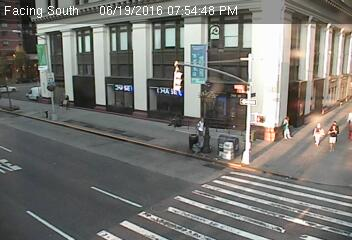neg: (23, 36, 38, 56), (14, 61, 25, 76), (33, 68, 44, 83), (24, 75, 34, 88), (14, 39, 23, 51), (24, 60, 33, 71), (2, 73, 10, 83), (8, 61, 15, 71), (1, 88, 7, 98), (15, 83, 21, 90), (7, 44, 12, 52)
pos: (322, 118, 349, 154), (306, 120, 329, 151), (279, 115, 299, 141), (193, 117, 212, 143), (58, 90, 75, 113)
